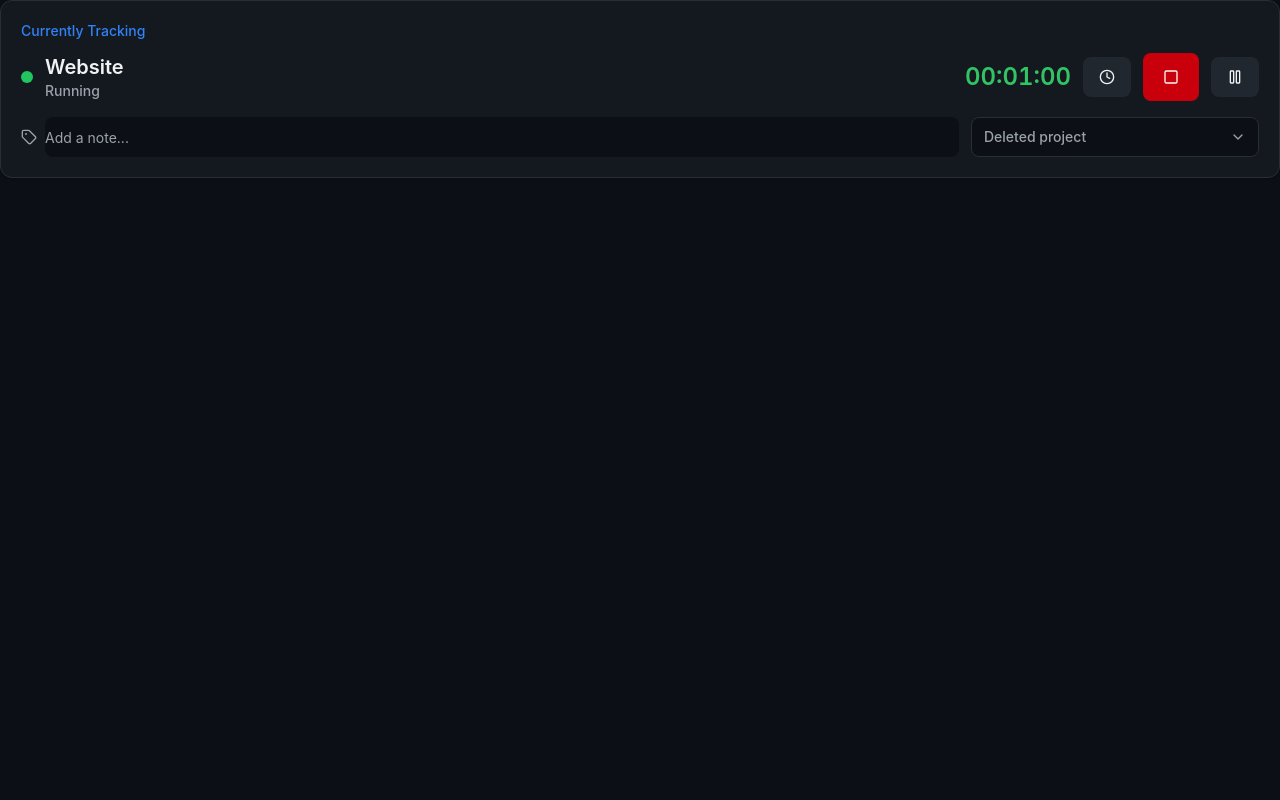
Test: CurrentlyTrackingCard – start correction › corrects the start time of the running entry
Click the button named "Correct start time". click: (1107, 77)
box: [1083,57,1131,97]
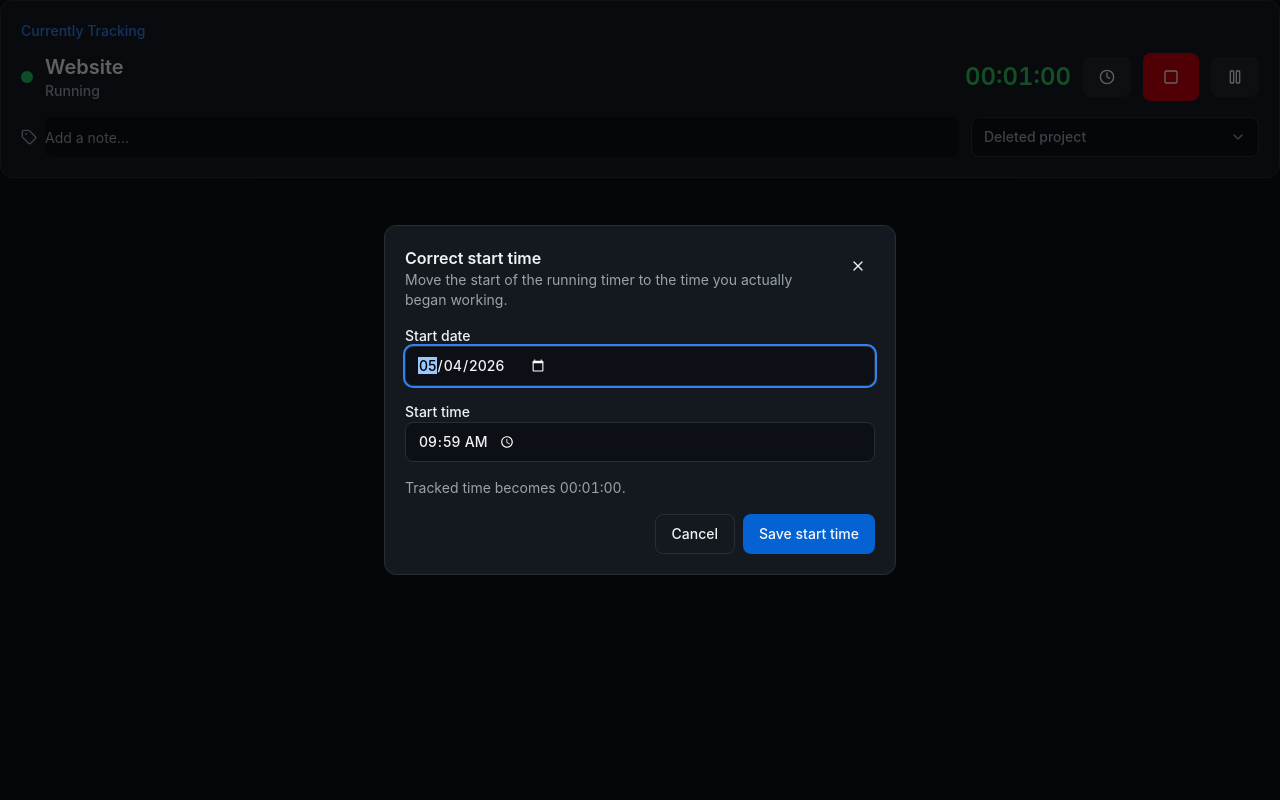
Check: the date field labelled "Start date" holds "2026-05-04"
Type "2026-05-03" into the date field labelled "Start date". click: (640, 366)
box: [405,346,875,386]
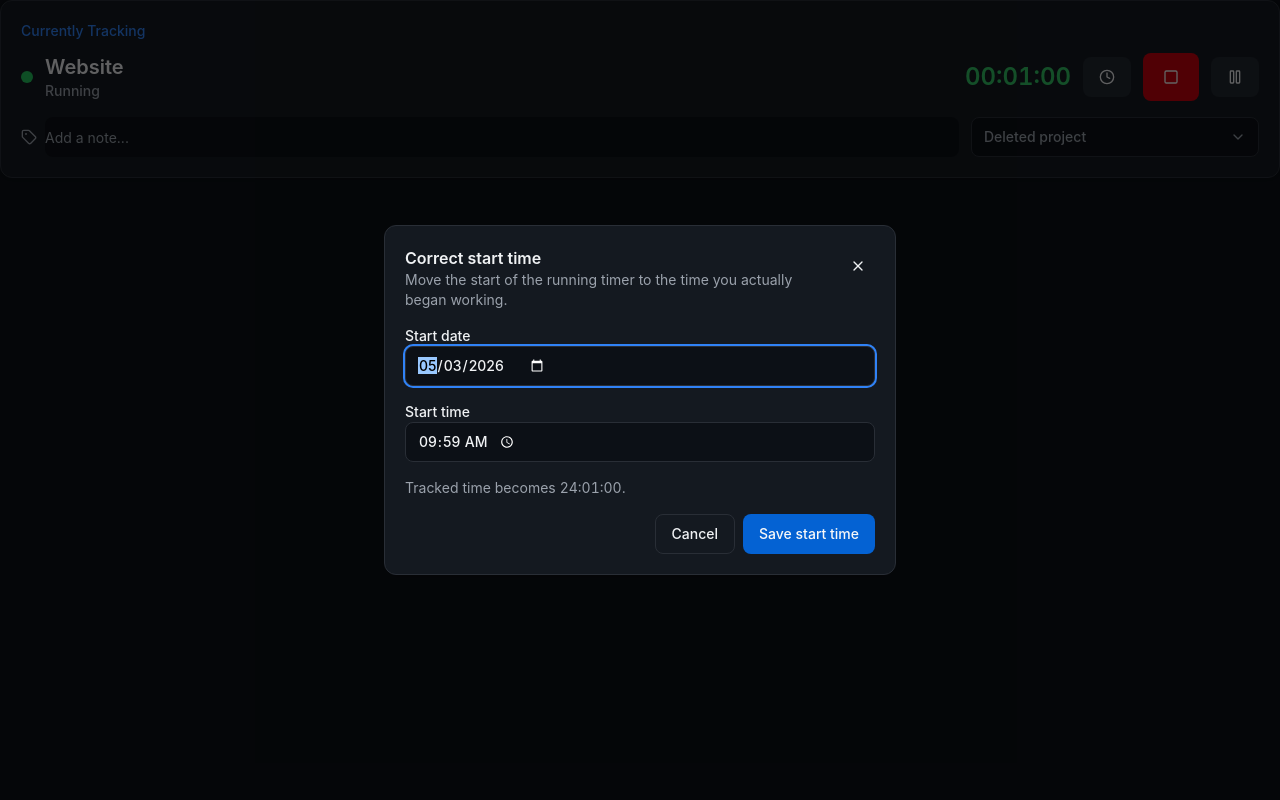
Replace the text in the time field labelled "Start time" with "08:00". click: (640, 442)
box: [405,422,875,462]
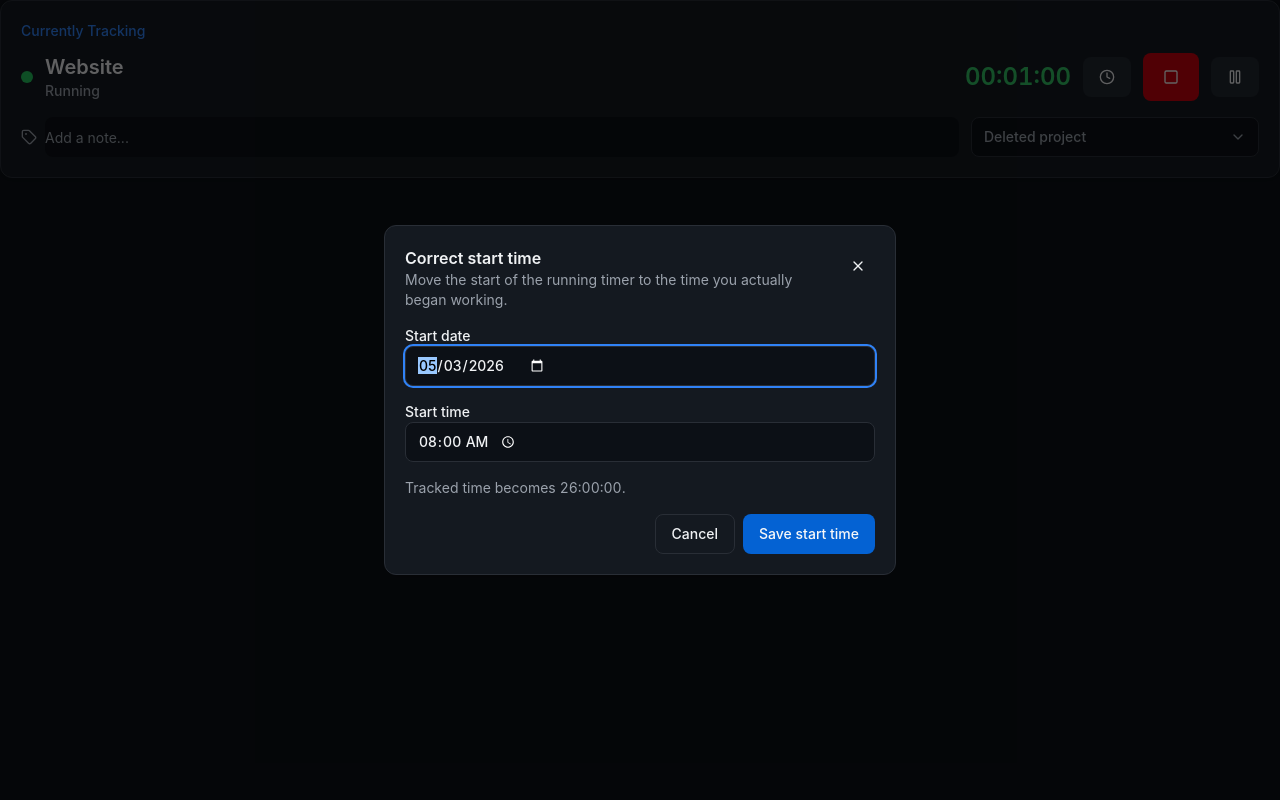
Click the button "Save start time". click: (809, 534)
box: [743,514,875,554]
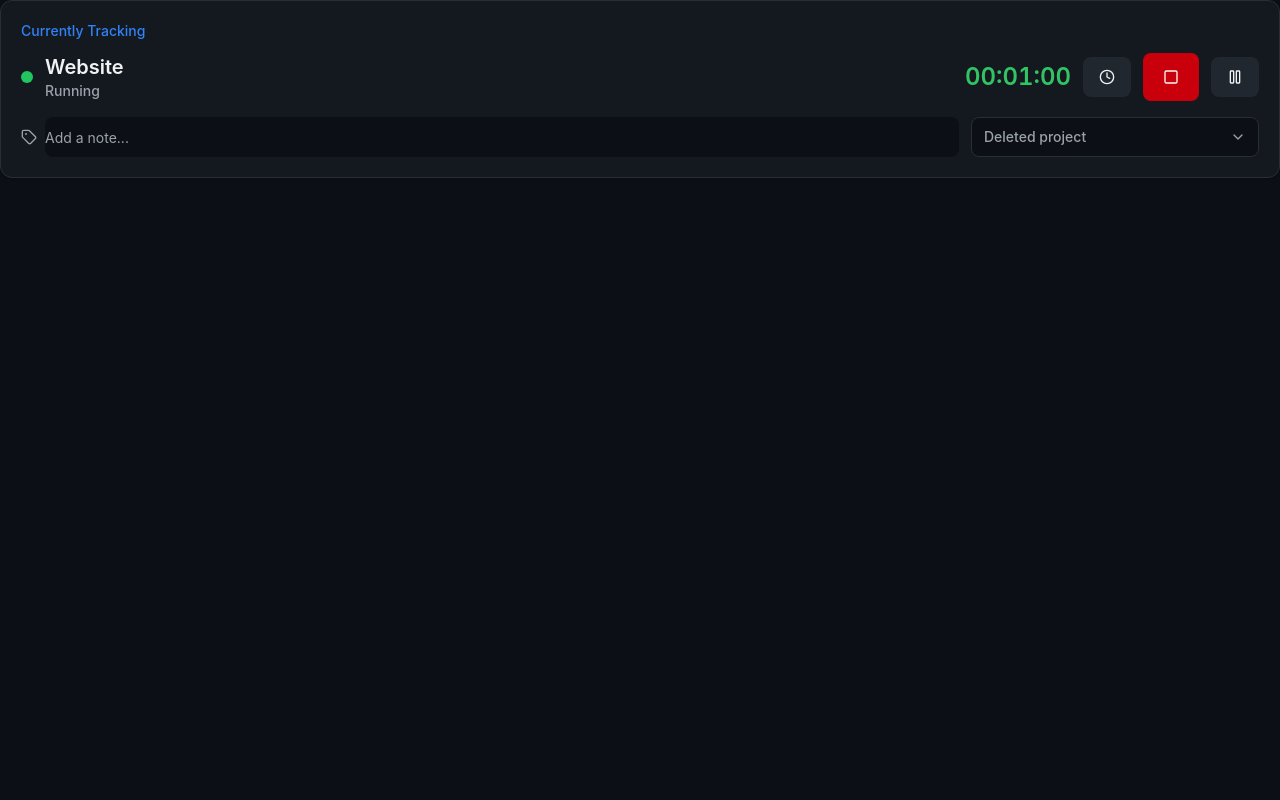
Check: the button "Save start time" is gone
